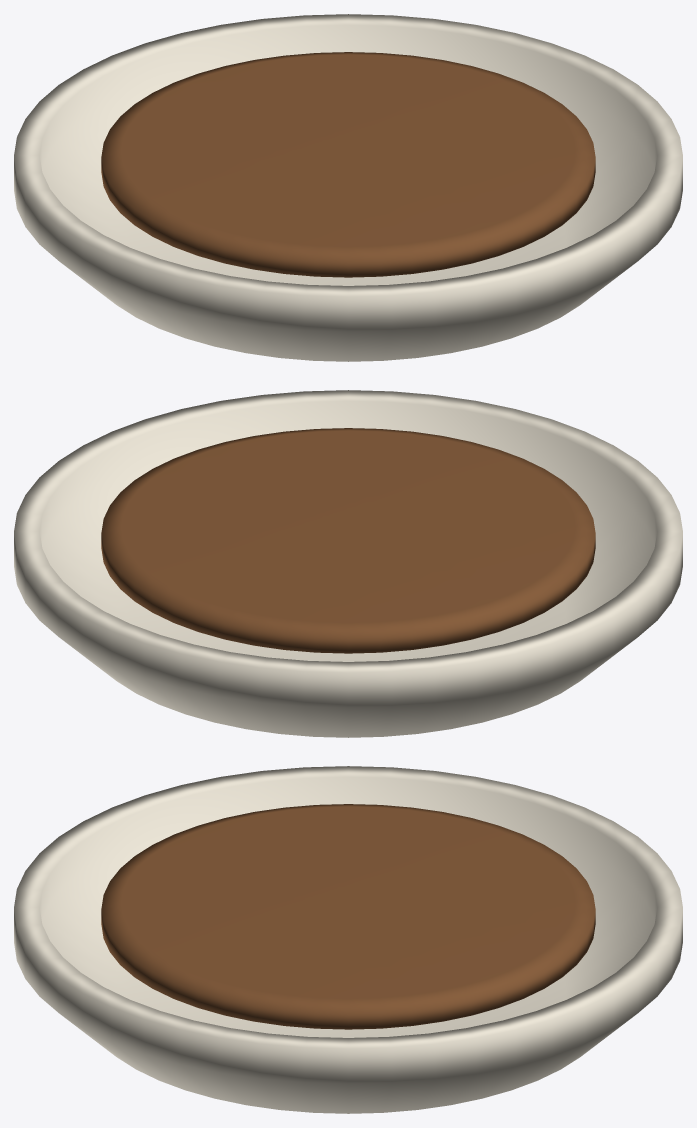
The model's file is coffee-roastery-and-cupping-room-coffee-roastery-and-c-38d9eaea__32216.glb.
3 views of the same model, one above another, from view 1: azimuth 30°, elevation 25°; view 2: azimuth 150°, elevation 25°; view 3: azimuth 270°, elevation 25° (orthographic).
Visible parts, largest first — view 1: coffee-roastery-and-cupping-room-grind-sample-dish; view 2: coffee-roastery-and-cupping-room-grind-sample-dish; view 3: coffee-roastery-and-cupping-room-grind-sample-dish.
Part boxes in pixels (box(x1,y1,x2,y2)): coffee-roastery-and-cupping-room-grind-sample-dish: box(14, 14, 682, 361); coffee-roastery-and-cupping-room-grind-sample-dish: box(14, 390, 682, 737); coffee-roastery-and-cupping-room-grind-sample-dish: box(14, 766, 682, 1113).
Size of the model in its own units: 0.13 by 0.026 by 0.13.
